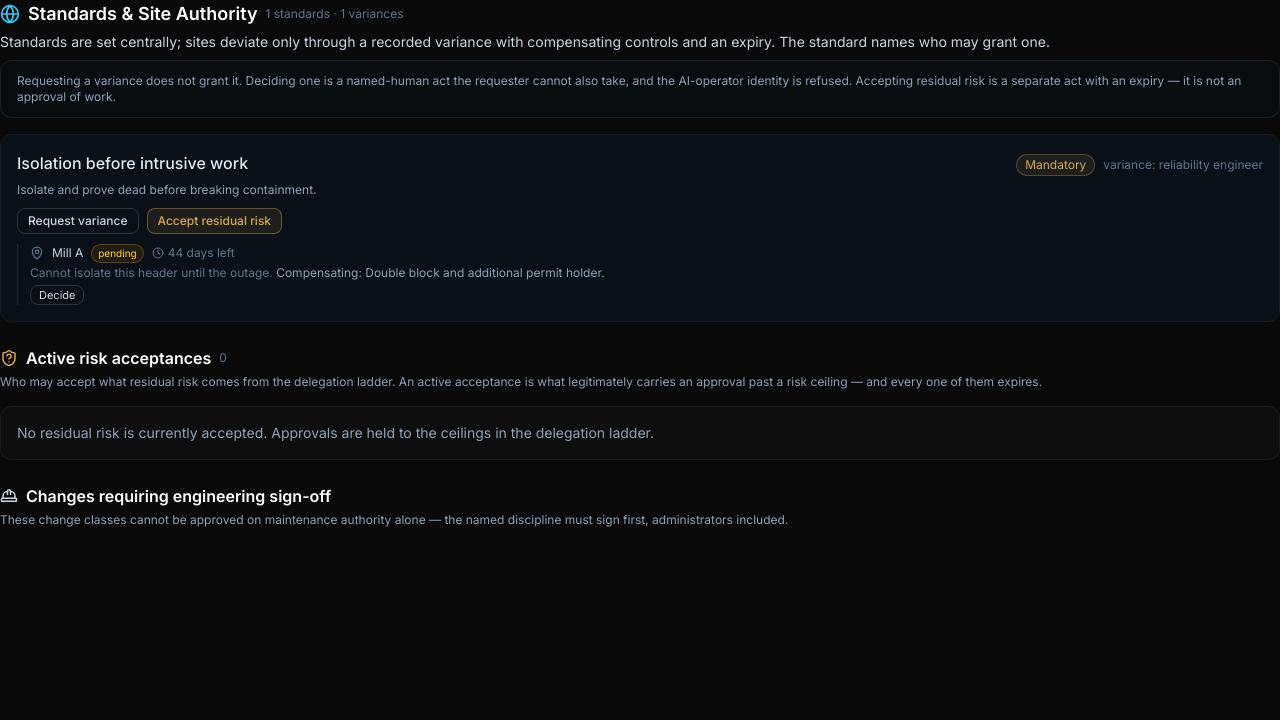
Test case: GovernanceStandards write paths › requests a variance through requestStandardVariance
The width and height of the screenshot is (1280, 720).
Click the button "Request variance" at coordinates (78, 220), box [17, 208, 138, 234]
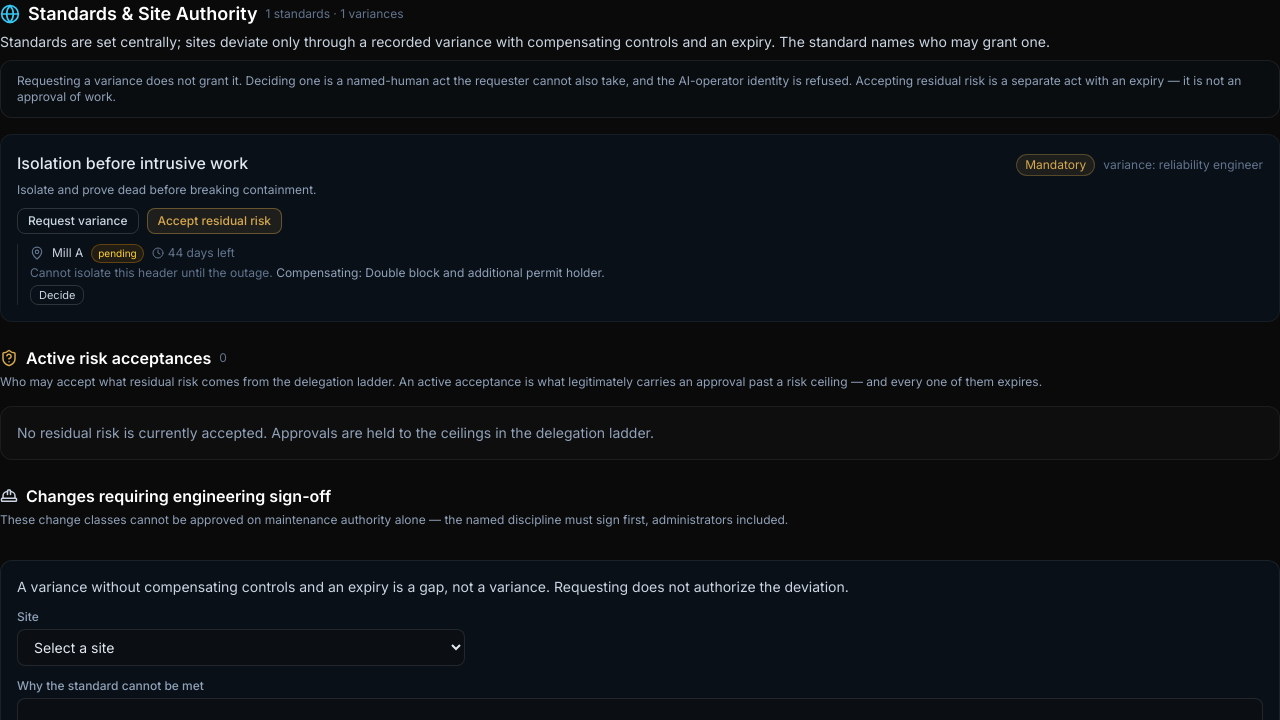
Select "Mill A" in the dropdown named "Variance site" at coordinates (241, 648), box [17, 630, 465, 666]
(page scrolled)
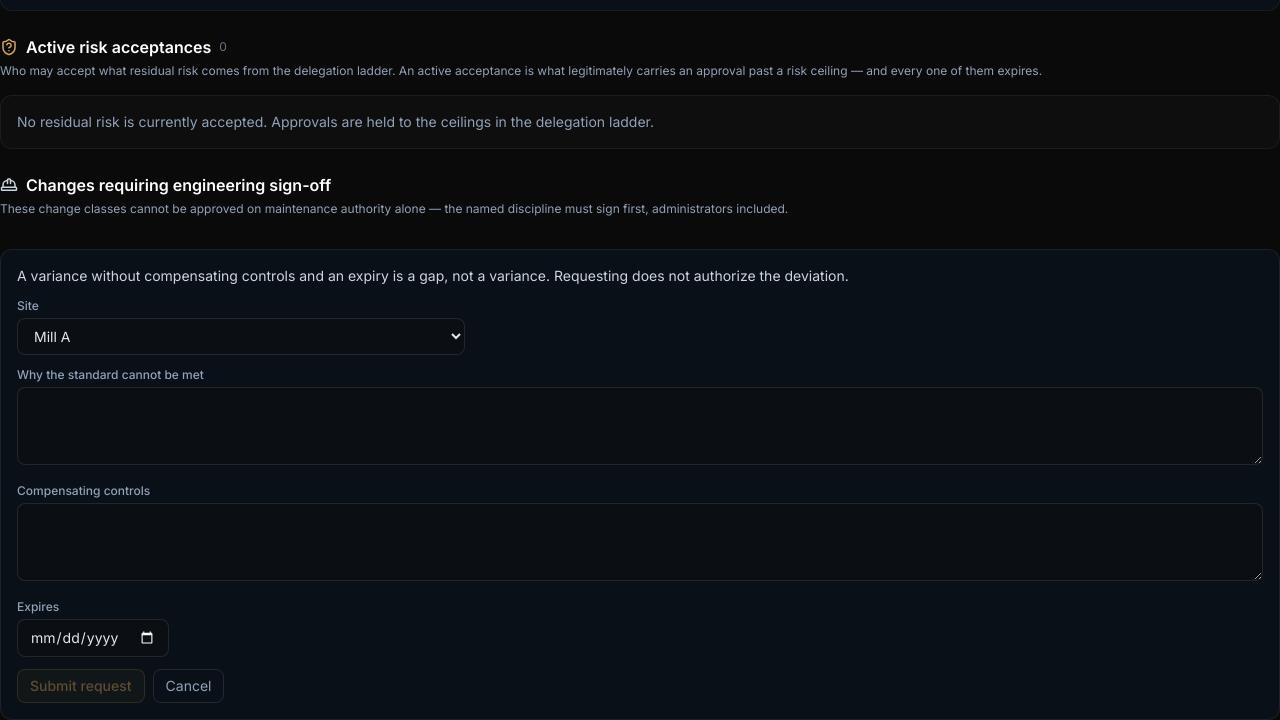
Type "The site cannot meet the isolation standard this quarter." into the text box named "Variance justification" at coordinates (640, 426), box [17, 388, 1263, 466]
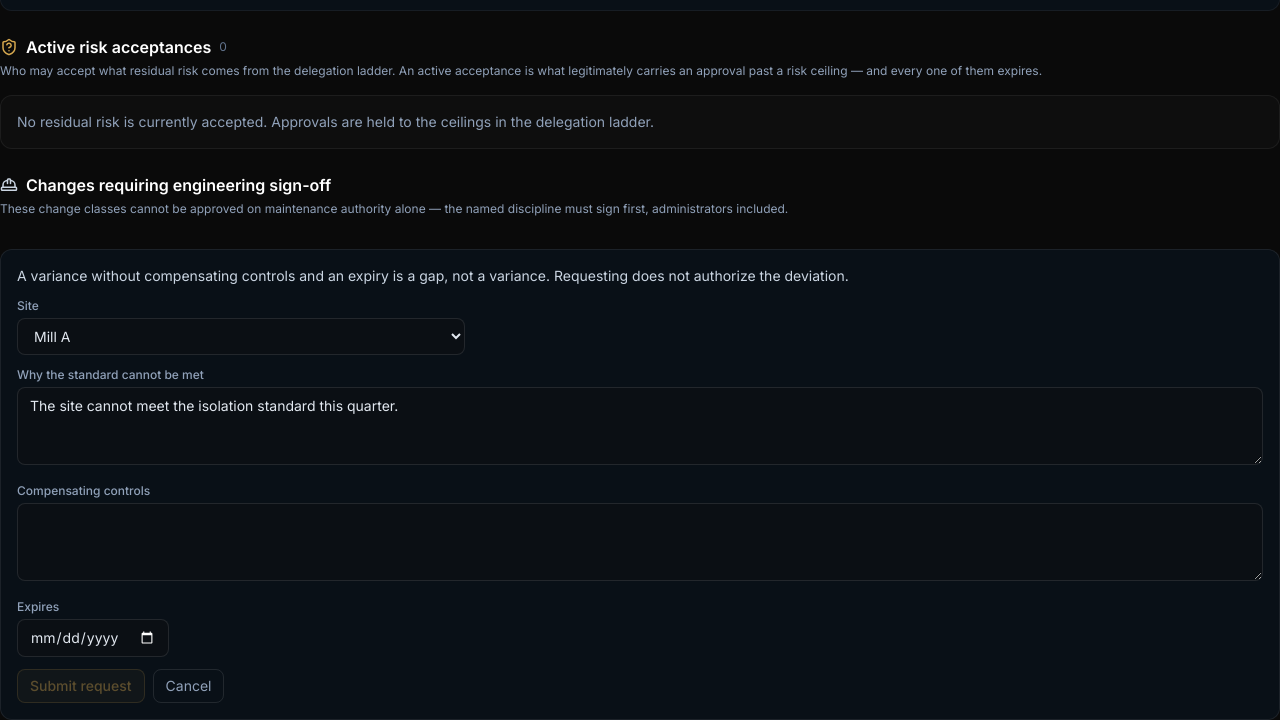
Type "Additional permit holder and double isolation." into the text box named "Variance compensating controls" at coordinates (640, 542), box [17, 504, 1263, 582]
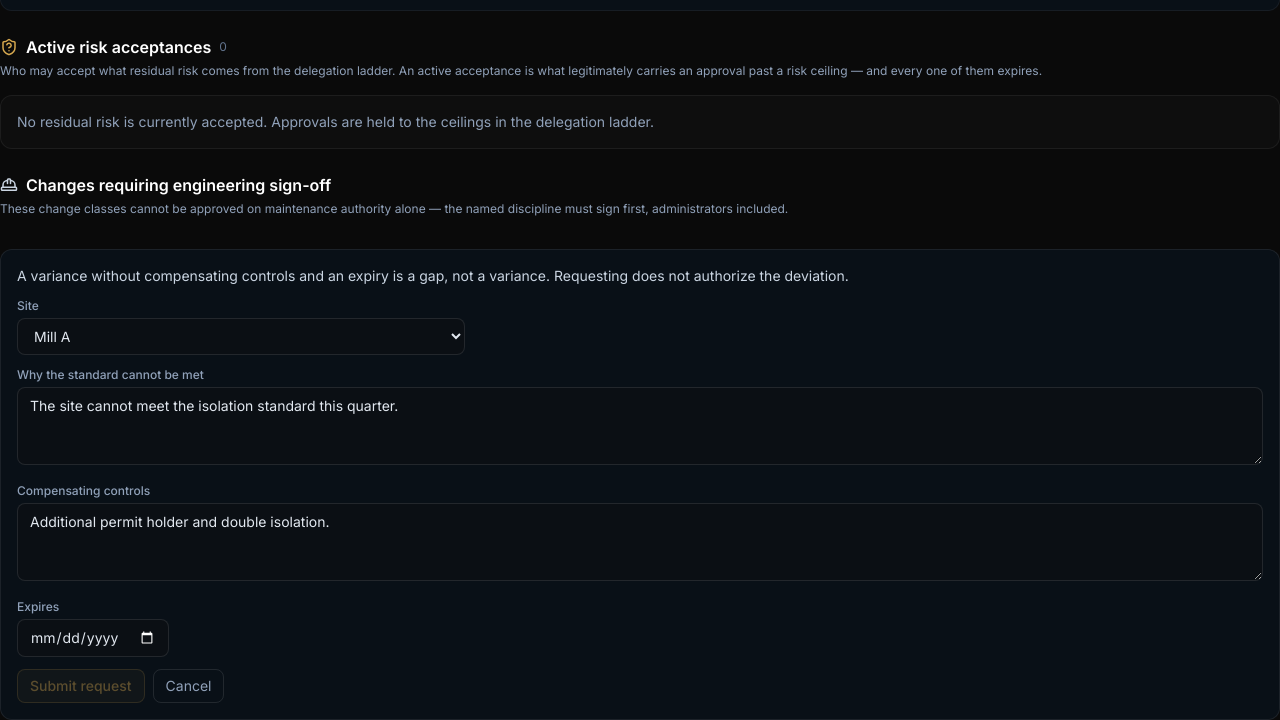
Type "2027-06-01" into the date field named "Variance expiry" at coordinates (93, 638), box [17, 620, 169, 658]
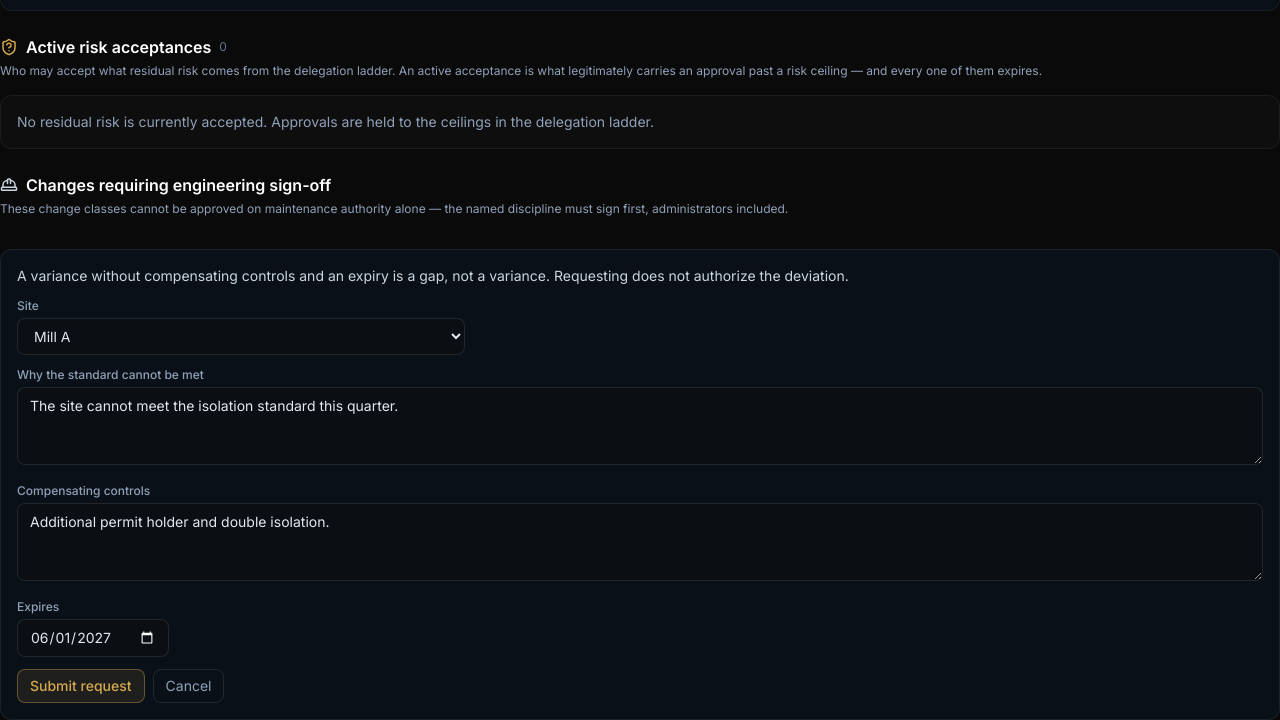
Click the button "Submit request" at coordinates (81, 686), box [17, 670, 145, 704]
(page scrolled)
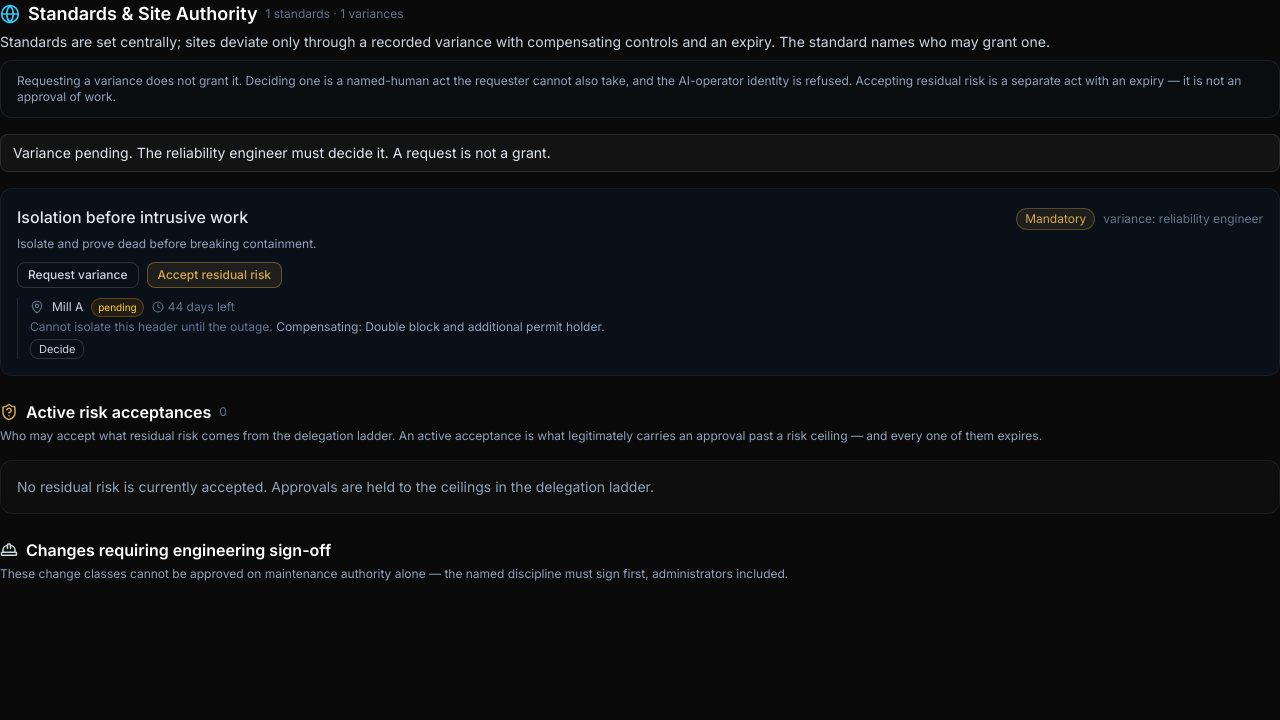
Check: the text "A request is not a grant" is shown, box [13, 144, 551, 161]
